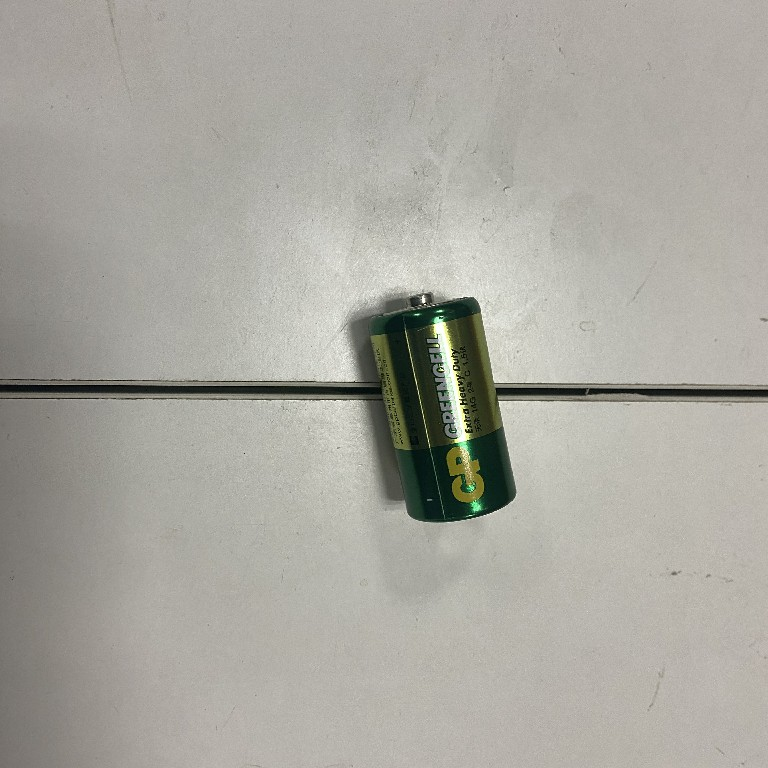charge: (368, 286, 520, 526)
